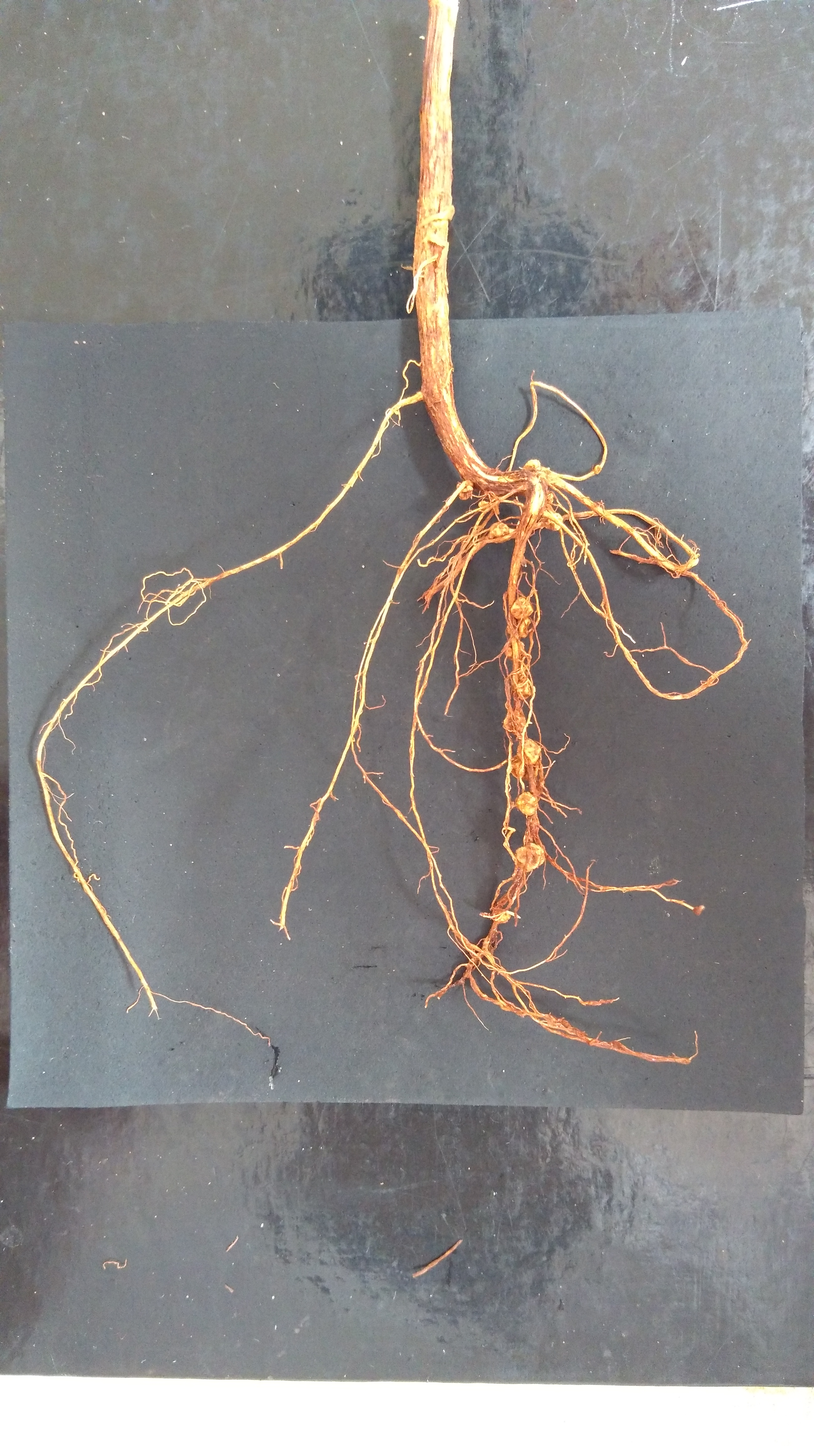nodule: (516, 843, 545, 872), (425, 220, 449, 246), (517, 740, 541, 764), (510, 597, 533, 618), (517, 792, 537, 816), (503, 715, 525, 733), (503, 641, 524, 659), (516, 678, 531, 701), (488, 522, 509, 538), (511, 755, 525, 778), (522, 760, 538, 780), (546, 513, 563, 530), (456, 482, 472, 500), (492, 909, 511, 923), (517, 617, 529, 638), (523, 460, 542, 472), (440, 206, 454, 221), (478, 501, 490, 510), (547, 493, 554, 504), (594, 465, 601, 475), (514, 632, 519, 638)
